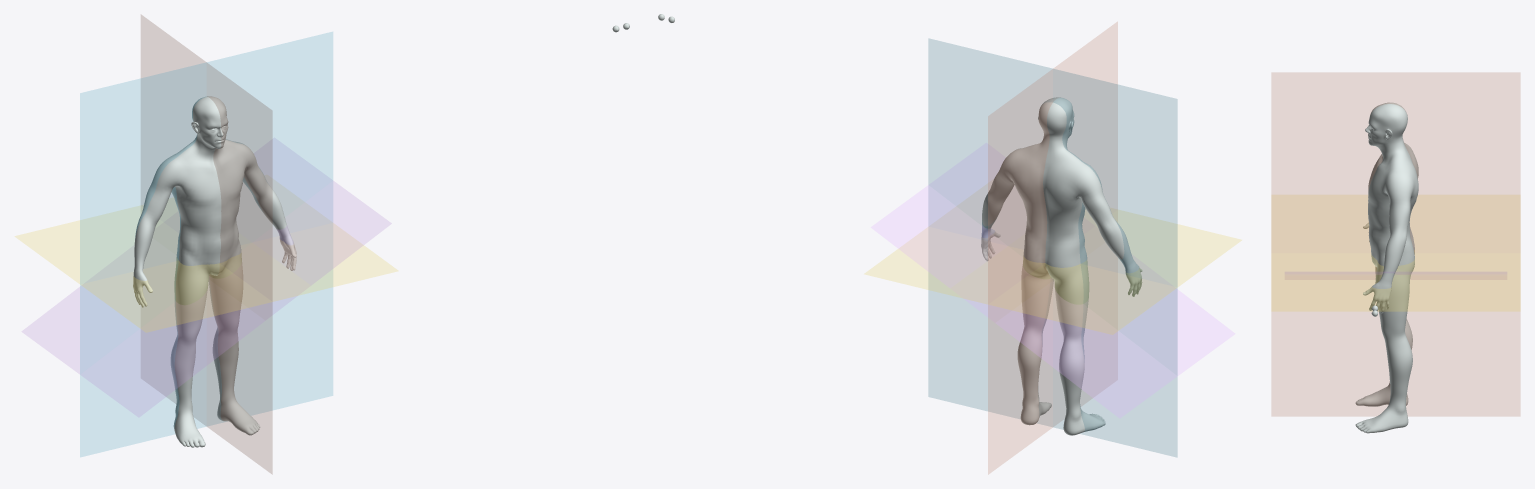
File: body-planes.glb
The picture shows the model from 3 angles, left to right: view 1: azimuth 30°, elevation 25°; view 2: azimuth 150°, elevation 25°; view 3: azimuth 270°, elevation 25°; orthographic projection. The views are drawn at different scales.
Visible parts, largest first — view 1: Frontal, Sagittal, Oblique, Human, Transverse; view 2: Frontal, Sagittal, Oblique, Human, Transverse; view 3: Sagittal, Transverse, Human, Oblique.
Boxes of the visible parts, x1,y1,x2,y2 form: Frontal: (80, 32, 332, 456); Sagittal: (141, 15, 272, 473); Oblique: (22, 138, 391, 416); Human: (133, 96, 296, 447); Transverse: (15, 206, 397, 332); Frontal: (928, 39, 1177, 456); Sagittal: (988, 22, 1117, 474); Oblique: (871, 143, 1234, 417); Human: (981, 97, 1142, 435); Transverse: (865, 210, 1241, 334); Sagittal: (1271, 72, 1520, 416); Transverse: (1271, 195, 1520, 311); Human: (1355, 102, 1418, 433); Oblique: (1285, 272, 1506, 275).
Size of the model in its own units: 3.06 by 1.98 by 1.3.
